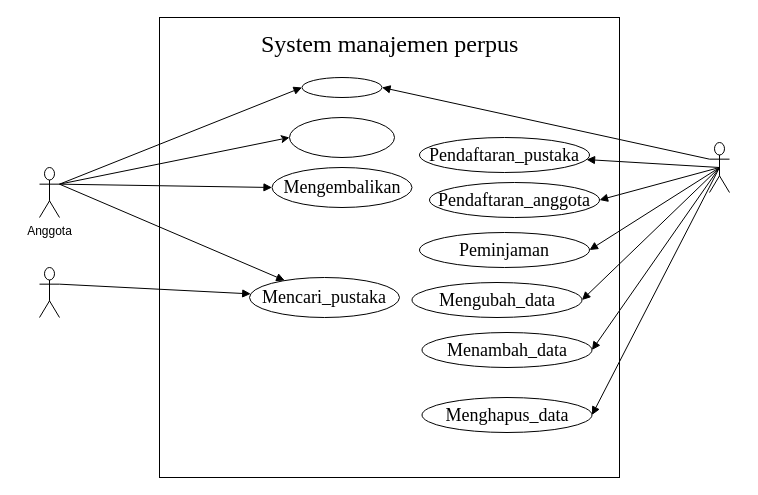
Image size: 758x495. Some labels were removed from this diagram. The centre of each missing label's shape, as x and y in pixels:
"Login" goes at (x=341, y=87).
"Meminjam" goes at (x=341, y=137).
"Pengunjung" goes at (x=49, y=292).
"Petugas" goes at (x=719, y=167).
